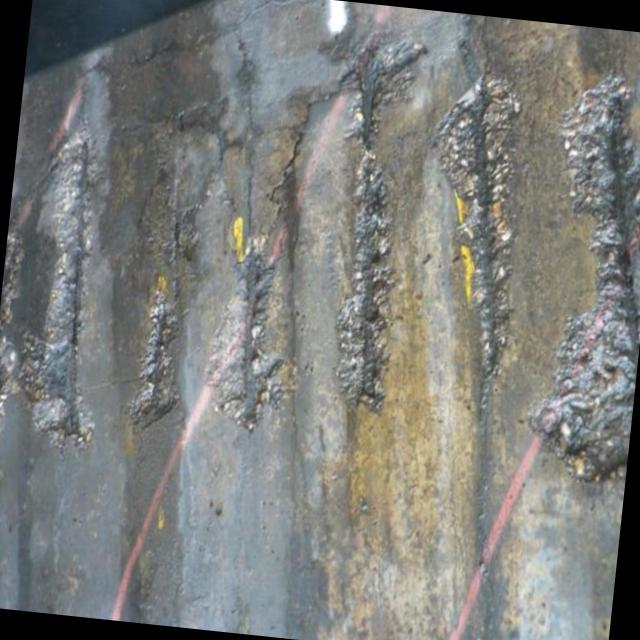spalling: (530, 81, 640, 485), (439, 75, 523, 377), (18, 125, 92, 438), (333, 151, 396, 414), (202, 249, 292, 426), (345, 33, 431, 146), (130, 281, 184, 429)
